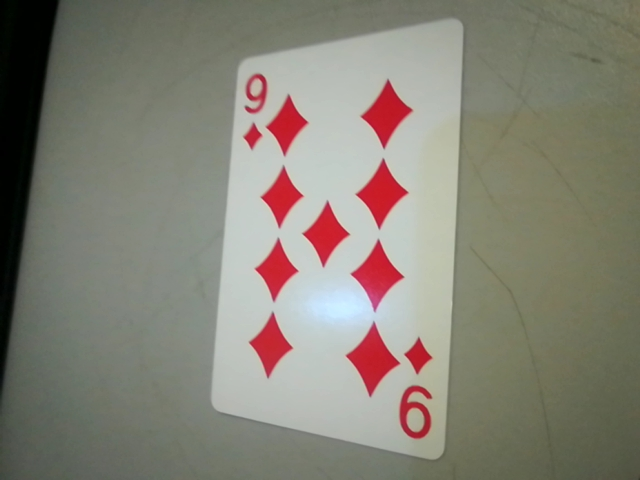fk 9: (390, 332, 446, 450), (224, 64, 281, 159)
